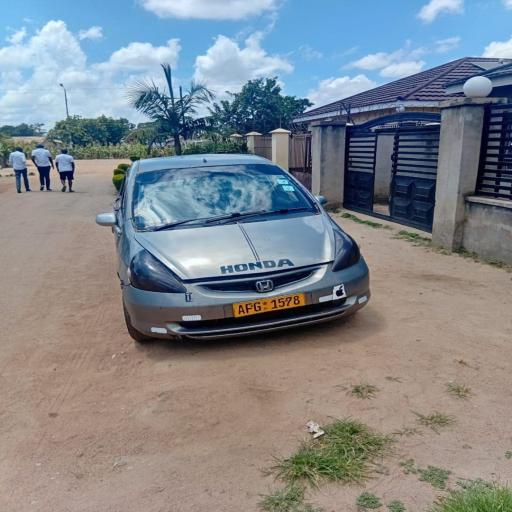number-plates: (223, 295, 311, 313)
